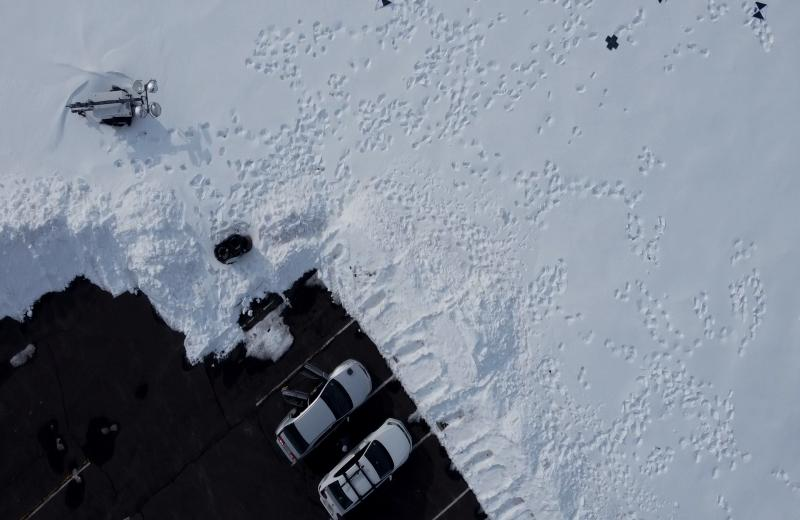Cross: (603, 34, 622, 52)
